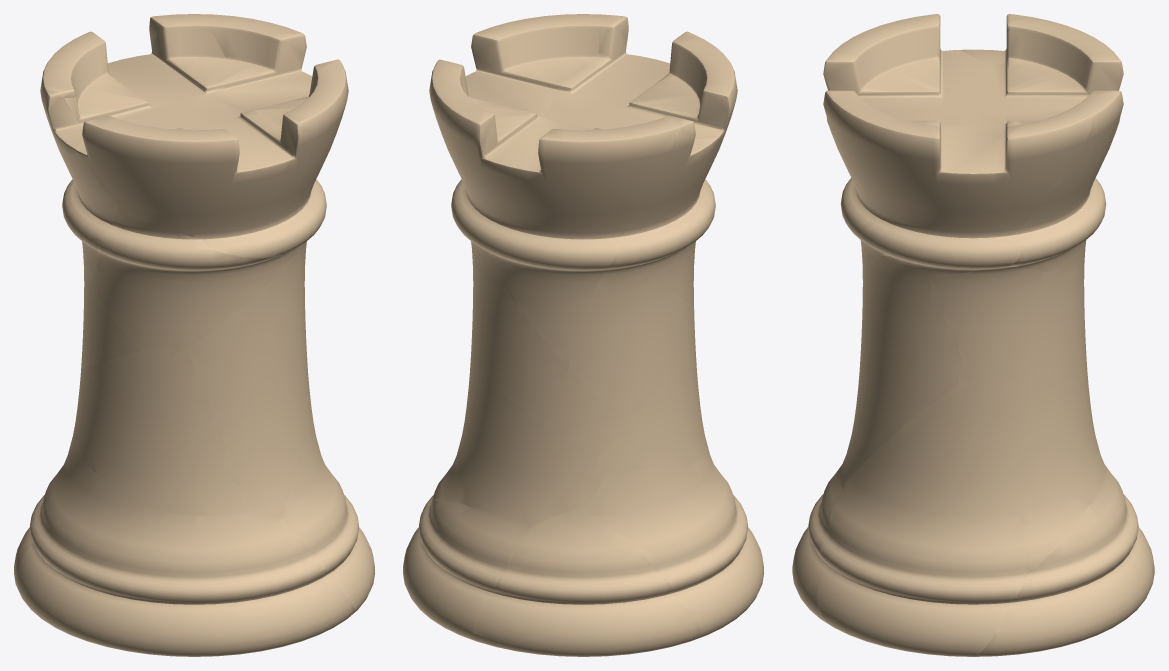
The model's file is rook.glb.
3 renders of one model, left to right at view 1: azimuth 30°, elevation 25°; view 2: azimuth 150°, elevation 25°; view 3: azimuth 270°, elevation 25°, orthographic.
Visible parts, largest first — view 1: chunk-02.001, chunk-12, chunk-05.001, chunk-06.001, chunk-09.001, chunk-13, chunk-11.001, chunk-04.001, chunk-10.001, chunk-08.001, chunk-00.001; view 2: chunk-11.001, chunk-00.001, chunk-02.001, chunk-03.001, chunk-12, chunk-08.001, chunk-07.001, chunk-13, chunk-01.001, chunk-10.001, chunk-05.001, chunk-09.001; view 3: chunk-04.001, chunk-13, chunk-11.001, chunk-12, chunk-01.001, chunk-07.001, chunk-06.001, chunk-03.001, chunk-02.001, chunk-00.001, chunk-10.001.
Boxes of the visible parts, x1,y1,x2,y2 form: chunk-02.001: [17, 426, 355, 656]; chunk-12: [59, 81, 311, 258]; chunk-05.001: [75, 348, 251, 516]; chunk-06.001: [187, 241, 308, 517]; chunk-09.001: [92, 205, 300, 349]; chunk-13: [211, 14, 348, 236]; chunk-11.001: [40, 14, 225, 182]; chunk-04.001: [282, 377, 374, 611]; chunk-10.001: [41, 89, 117, 280]; chunk-08.001: [81, 267, 142, 367]; chunk-00.001: [14, 465, 63, 587]; chunk-11.001: [438, 97, 683, 304]; chunk-00.001: [473, 505, 701, 656]; chunk-02.001: [589, 449, 763, 637]; chunk-03.001: [431, 356, 608, 525]; chunk-12: [518, 16, 737, 154]; chunk-08.001: [516, 292, 694, 416]; chunk-07.001: [471, 241, 629, 456]; chunk-13: [429, 14, 622, 190]; chunk-01.001: [403, 500, 531, 640]; chunk-10.001: [590, 119, 718, 304]; chunk-05.001: [601, 311, 708, 469]; chunk-09.001: [671, 179, 715, 305]; chunk-04.001: [817, 377, 1037, 656]; chunk-13: [824, 91, 1092, 274]; chunk-11.001: [991, 15, 1123, 272]; chunk-12: [823, 14, 1014, 243]; chunk-01.001: [975, 467, 1152, 656]; chunk-07.001: [926, 266, 1087, 389]; chunk-06.001: [842, 255, 969, 484]; chunk-03.001: [1024, 370, 1105, 577]; chunk-02.001: [792, 458, 845, 624]; chunk-00.001: [1104, 464, 1154, 582]; chunk-10.001: [960, 14, 1020, 65].
Size of the model in its own units: 0.6006 by 0.93 by 0.6006.
